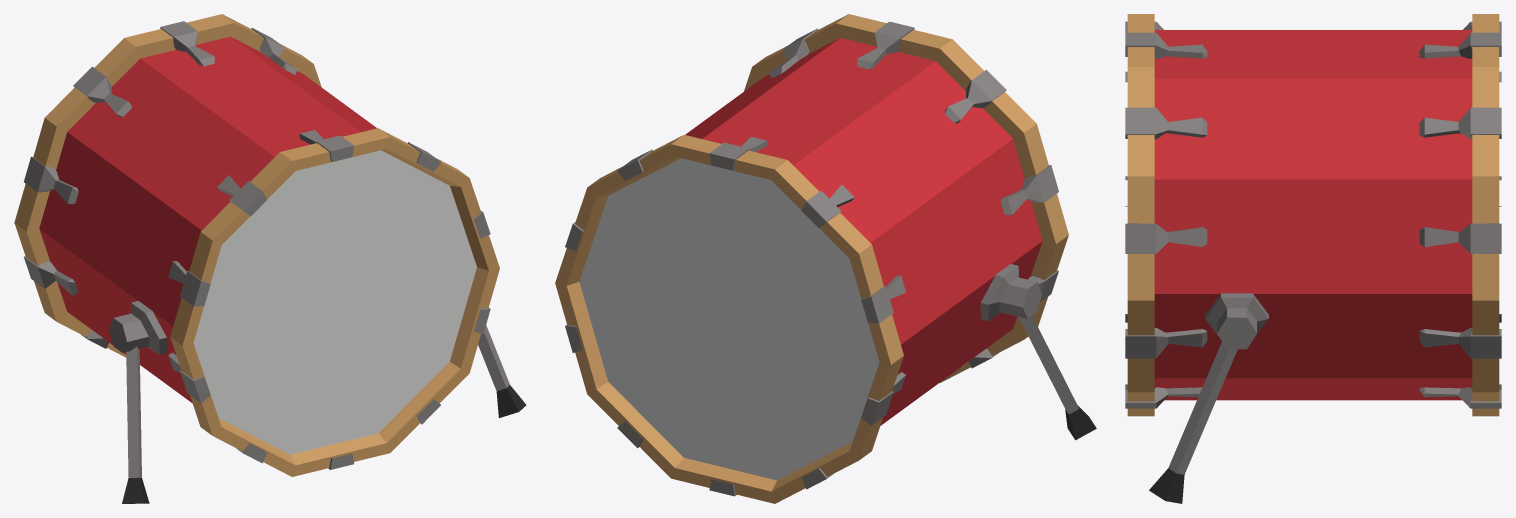
File: music-drum-bass.glb
3 views of the same model, side by side, from view 1: azimuth 30°, elevation 25°; view 2: azimuth 150°, elevation 25°; view 3: azimuth 270°, elevation 25° (orthographic). The views are drawn at different scales.
Parts seen in each view (by area): view 1: drum-bass; view 2: drum-bass; view 3: drum-bass.
Boxes of the visible parts, x1=… form: drum-bass: x1=14, y1=14, x2=526, y2=503; drum-bass: x1=555, y1=14, x2=1096, y2=503; drum-bass: x1=1125, y1=14, x2=1501, y2=503.
Size of the model in its own units: 0.7646 by 0.5921 by 0.5568.
